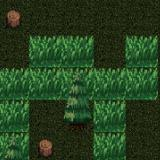Obstacle: (61, 100, 93, 133), (0, 3, 29, 36), (29, 132, 60, 160)
Slow: (0, 68, 158, 100), (30, 36, 94, 68), (93, 100, 126, 160), (0, 100, 29, 159), (125, 36, 158, 68)
